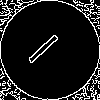I: (25, 25, 68, 66)
